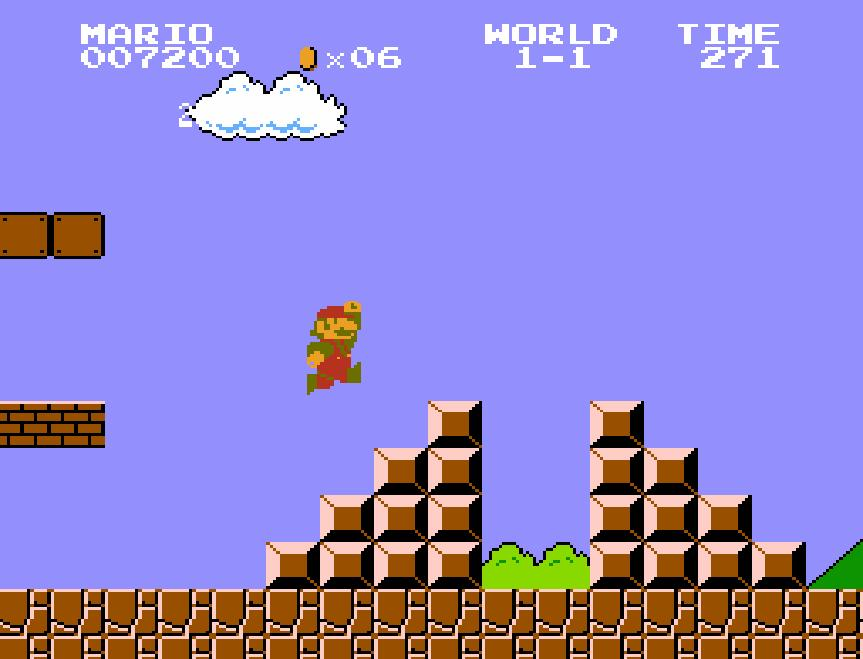big_mario: (304, 298, 362, 396)
